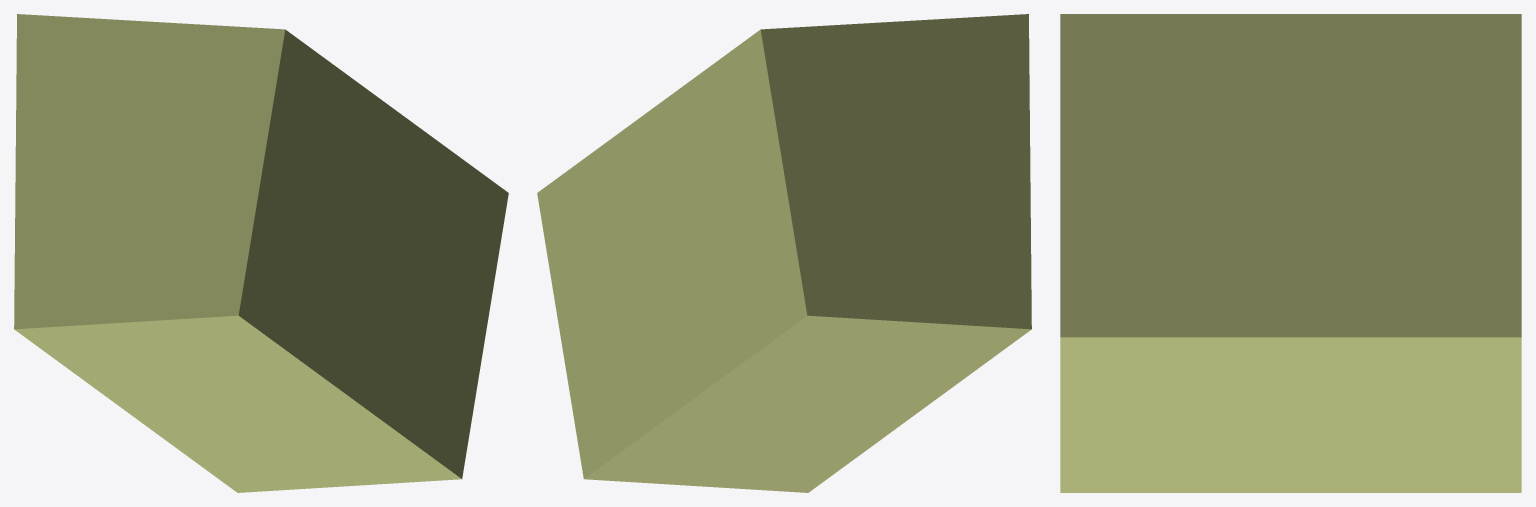
3 views of the same model, side by side, from view 1: azimuth 30°, elevation 25°; view 2: azimuth 150°, elevation 25°; view 3: azimuth 270°, elevation 25° (orthographic). The views are drawn at different scales.
Parts seen in each view (by area): view 1: 0_1_2_0_3_3_2_0_1_3_0; view 2: 0_1_2_0_3_3_2_0_1_3_0; view 3: 0_1_2_0_3_3_2_0_1_3_0.
Part boxes in pixels (left/top/right/bottom): 0_1_2_0_3_3_2_0_1_3_0: left=14, top=14, right=508, bottom=492; 0_1_2_0_3_3_2_0_1_3_0: left=537, top=14, right=1031, bottom=492; 0_1_2_0_3_3_2_0_1_3_0: left=1060, top=14, right=1521, bottom=492.
Bounding box in the file's own units: 6.3 × 7.9 × 9.
